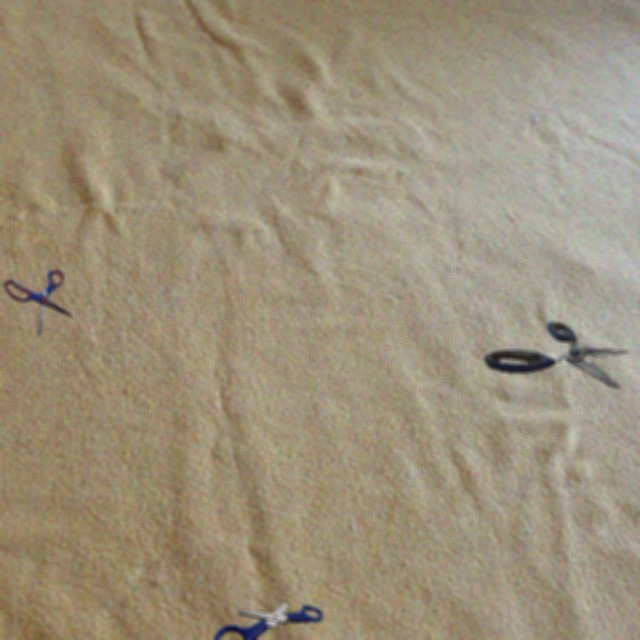scissors: (484, 321, 628, 388), (4, 270, 72, 336), (212, 600, 322, 640)
